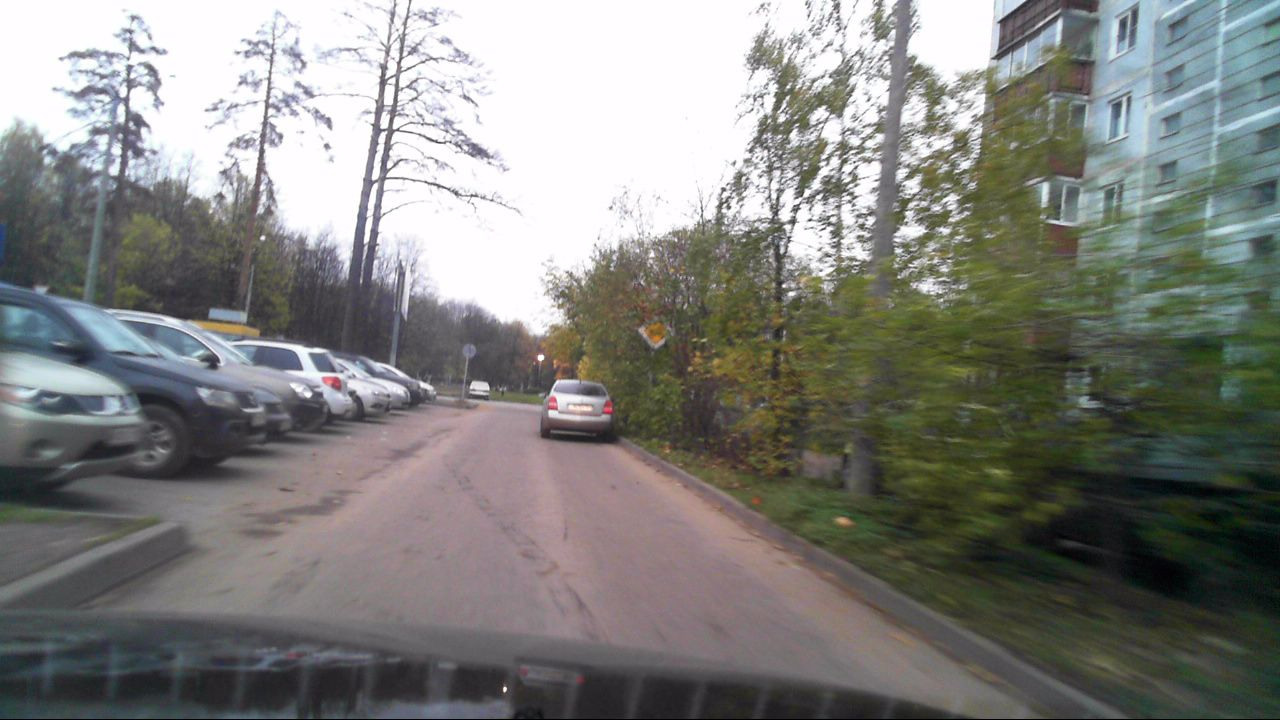main road: (637, 314, 676, 348)
